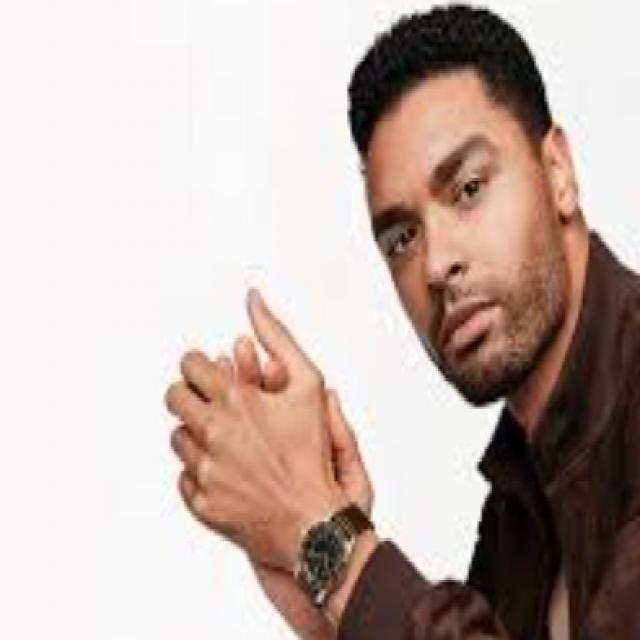Watch: (288, 499, 374, 611)
